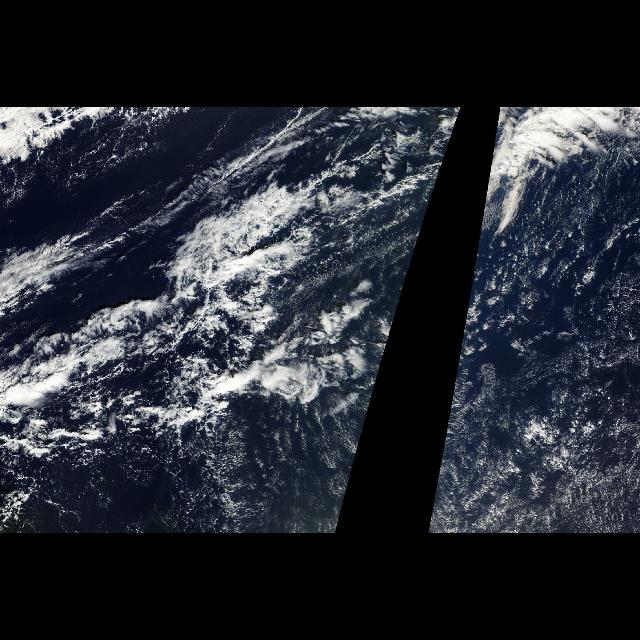Fish: (0, 126, 432, 418)
Sugar: (426, 188, 640, 534), (258, 416, 368, 534)
